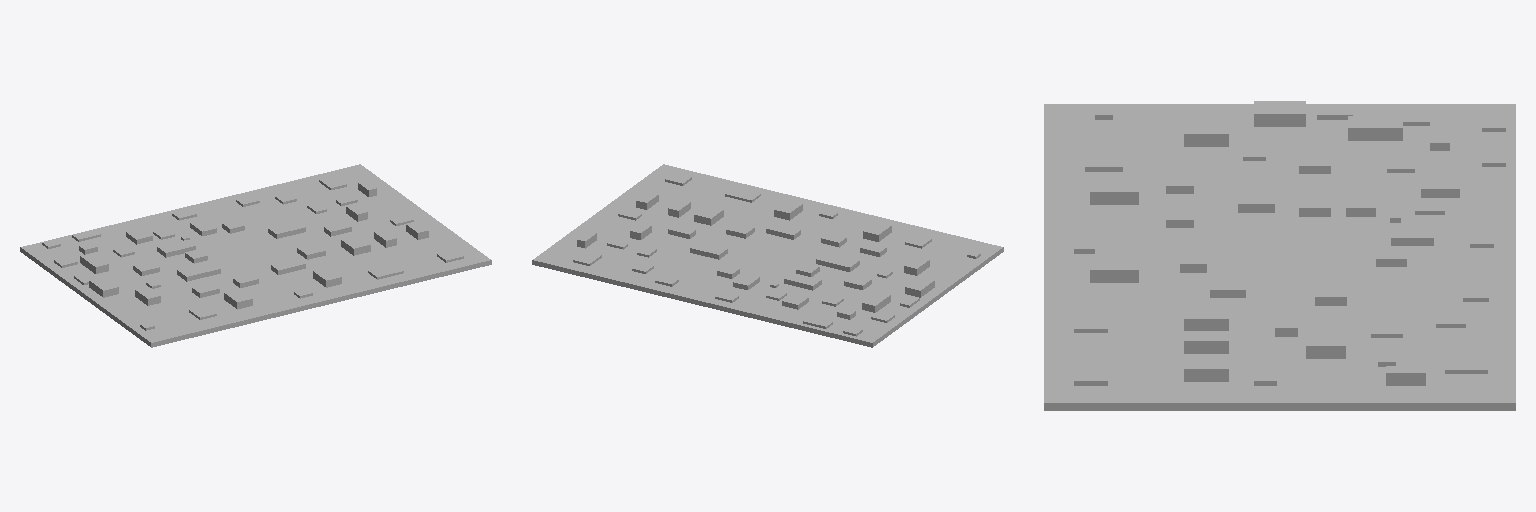
URDF robot description (world2):
<?xml version="1.0" encoding="utf-8"?>
<!-- This URDF was automatically created by SolidWorks to URDF Exporter! Originally created by [author] ([email redacted]) 
     Commit Version: 1.6.0-1-g15f4949  Build Version: 1.6.7594.29634
     For more information, please see http://wiki.ros.org/sw_urdf_exporter -->
<robot
  name="world2">
  <link
    name="base_link">
    <inertial>
      <origin
        xyz="-0.00753613439539744 -0.000681029463331691 0.012617134503209"
        rpy="0 0 0" />
      <mass
        value="34.2364024136649" />
      <inertia
        ixx="2.74577291044774"
        ixy="0.0530028620093837"
        ixz="0.00478816499134413"
        iyy="6.36342684330171"
        iyz="0.00160204072617054"
        izz="9.10337367646316" />
    </inertial>
    <visual>
      <origin
        xyz="0 0 0"
        rpy="0 0 0" />
      <geometry>
        <mesh
          filename="package://world2/meshes/base_link.STL" />
      </geometry>
      <material
        name="">
        <color
          rgba="0.752941176470588 0.752941176470588 0.752941176470588 1" />
      </material>
    </visual>
    <collision>
      <origin
        xyz="0 0 0"
        rpy="0 0 0" />
      <geometry>
        <mesh
          filename="package://world2/meshes/base_link.STL" />
      </geometry>
    </collision>
  </link>
</robot>

--- Facts derived from the render (not from the file) ---
The picture shows the robot from 3 angles, left to right: view 1: azimuth 30°, elevation 25°; view 2: azimuth 150°, elevation 25°; view 3: azimuth 270°, elevation 25°; orthographic projection.
Model world2 with 1 links and 0 joints (none), rooted at base_link, posed all joints at 0.
Links seen in each view (by area): view 1: base_link; view 2: base_link; view 3: base_link.
Link boxes in pixels (bbox=[...]): base_link: bbox=[20, 164, 491, 347]; base_link: bbox=[532, 164, 1003, 347]; base_link: bbox=[1044, 101, 1515, 410].
Bounding box of the posed robot: 1.5 × 1 × 0.05 m (x, y, z).
1 mesh visuals loaded from 1 distinct referenced files (1 binary STL).